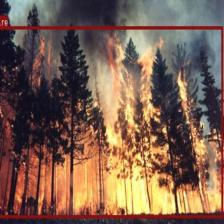fire: (0, 26, 223, 217)
